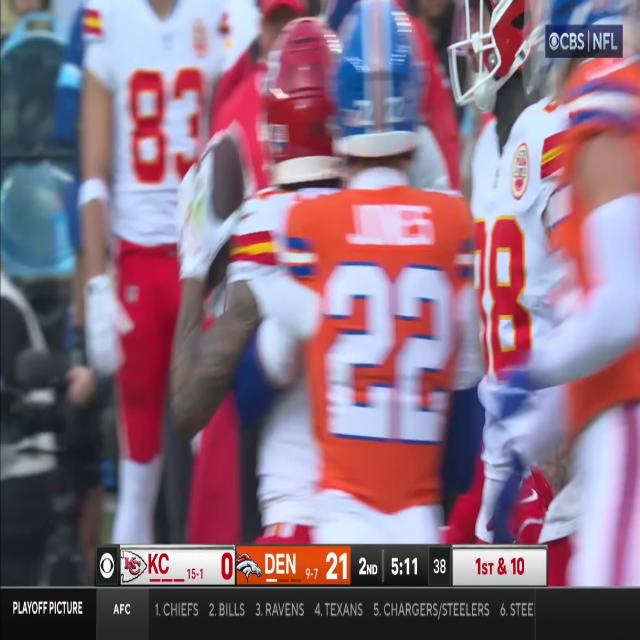Player: (286, 0, 474, 539), (77, 0, 252, 532), (455, 0, 576, 530)
